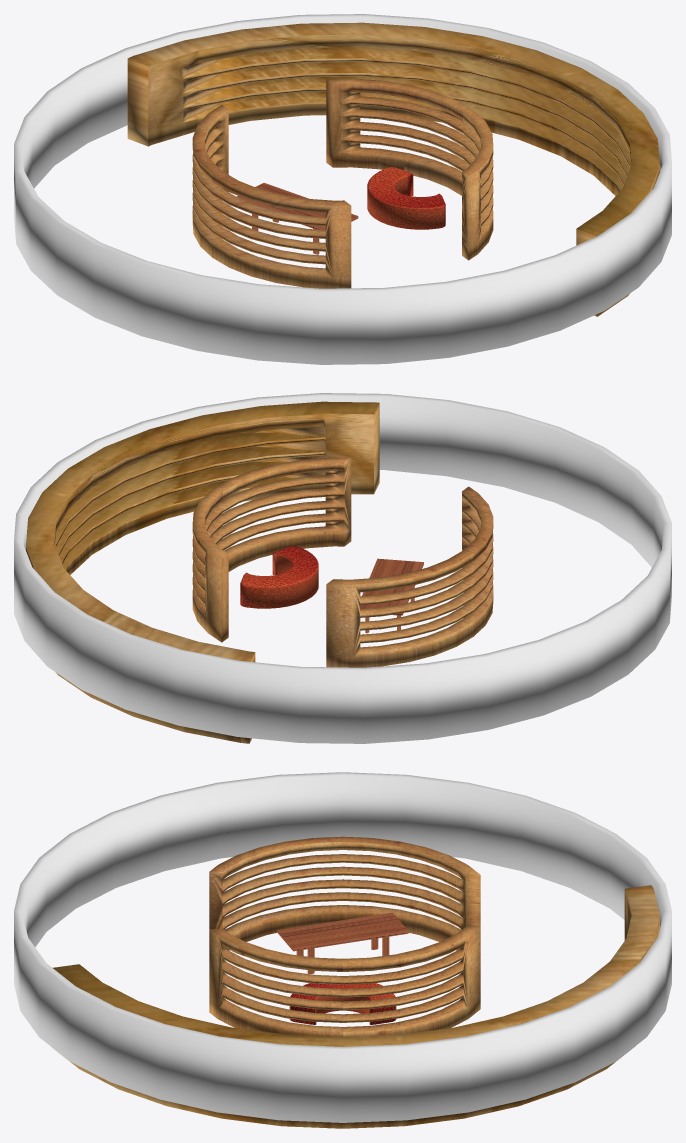
The model's file is library.dae.
3 renders of one model, top to bottom at view 1: azimuth 30°, elevation 25°; view 2: azimuth 150°, elevation 25°; view 3: azimuth 270°, elevation 25°, orthographic.
Parts seen in each view (by area): view 1: 柱体, 柱体.002, 柱体.001, 柱体.003, 立方体; view 2: 柱体, 柱体.002, 柱体.001, 柱体.003, 立方体; view 3: 柱体, 柱体.001, 柱体.002, 立方体, 柱体.003.
Part boxes in pixels (x1,y1,x2,y2): 柱体: (14,14,671,364); 柱体.002: (127,22,659,316); 柱体.001: (192,78,493,288); 柱体.003: (367,167,445,229); 立方体: (236,183,358,254); 柱体: (14,393,671,743); 柱体.002: (26,401,379,743); 柱体.001: (192,457,493,667); 柱体.003: (240,546,318,608); 立方体: (360,558,423,633); 柱体: (14,772,671,1122); 柱体.001: (209,836,480,1036); 柱体.002: (53,885,659,1128); 立方体: (277,912,408,973); 柱体.003: (289,983,396,1024).
Bounding box in the file's own units: 16.4 × 16.4 × 2.6.
